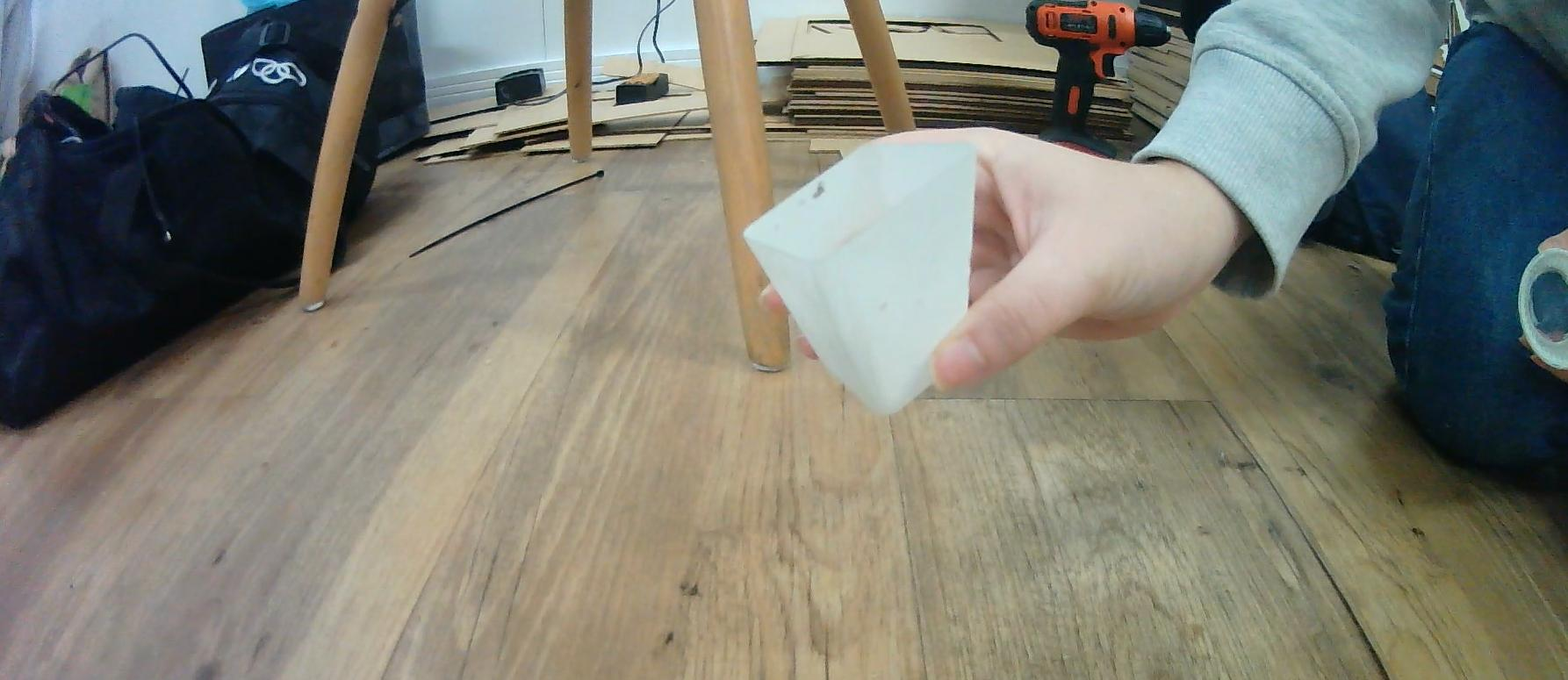erva_daninha: (741, 138, 985, 421)
